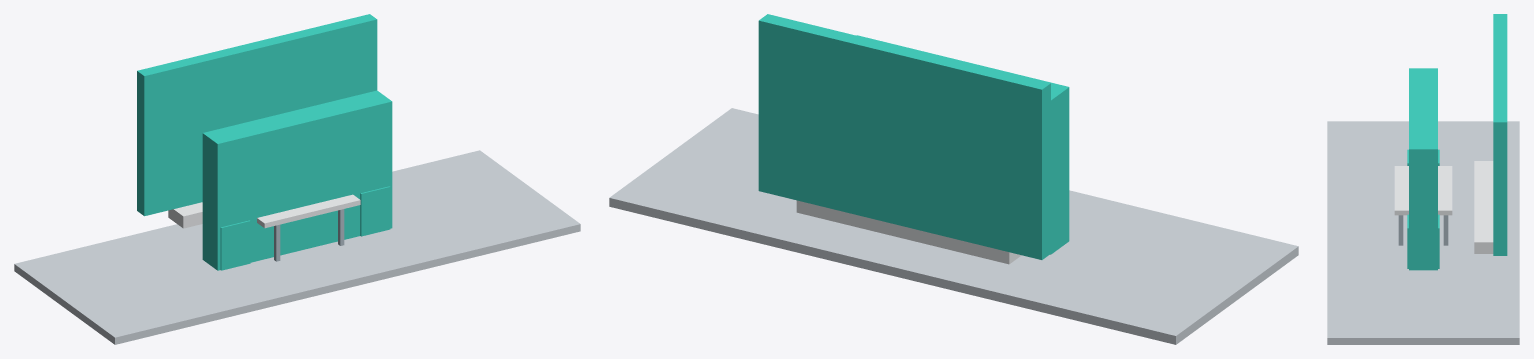
3 views of the same model, side by side, from view 1: azimuth 30°, elevation 25°; view 2: azimuth 150°, elevation 25°; view 3: azimuth 270°, elevation 25° (orthographic). The views are drawn at different scales.
Visible parts, largest first — view 1: Exhibition Booth Concept; view 2: Exhibition Booth Concept; view 3: Exhibition Booth Concept.
Boxes of the visible parts, x1,y1,x2,y2 form: Exhibition Booth Concept: (14,14,580,344); Exhibition Booth Concept: (609,14,1298,344); Exhibition Booth Concept: (1327,14,1519,344).
Size of the model in its own units: 8 by 2.9 by 3.
